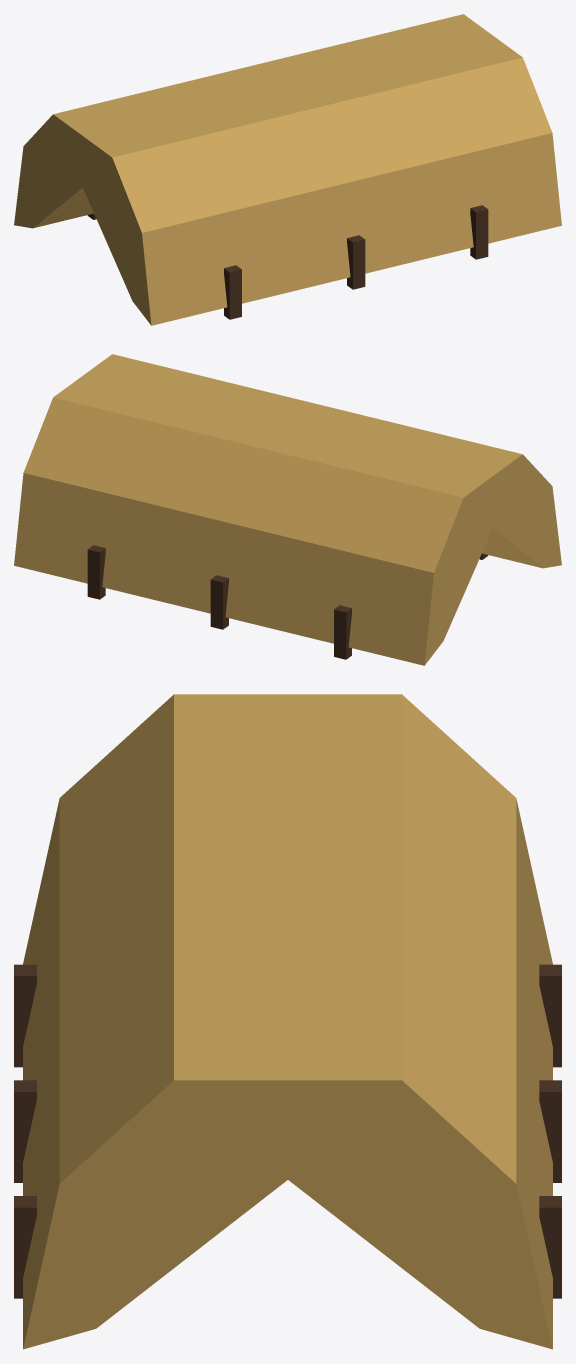
The model's file is roof_ridge_thatch_lod0.glb.
3 views of the same model, one above another, from view 1: azimuth 30°, elevation 25°; view 2: azimuth 150°, elevation 25°; view 3: azimuth 270°, elevation 25° (orthographic). The views are drawn at different scales.
Visible parts, largest first — view 1: roof_ridge_thatch; view 2: roof_ridge_thatch; view 3: roof_ridge_thatch.
Part boxes in pixels (box(x1,y1,x2,y2)): roof_ridge_thatch: box(14, 14, 561, 325); roof_ridge_thatch: box(14, 354, 561, 665); roof_ridge_thatch: box(14, 694, 561, 1349).
Size of the model in its own units: 2 by 0.7 by 1.2.
